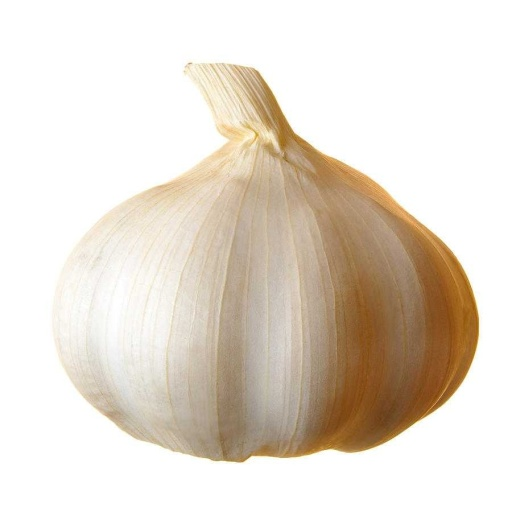Knoblauch: (53, 62, 479, 462)
